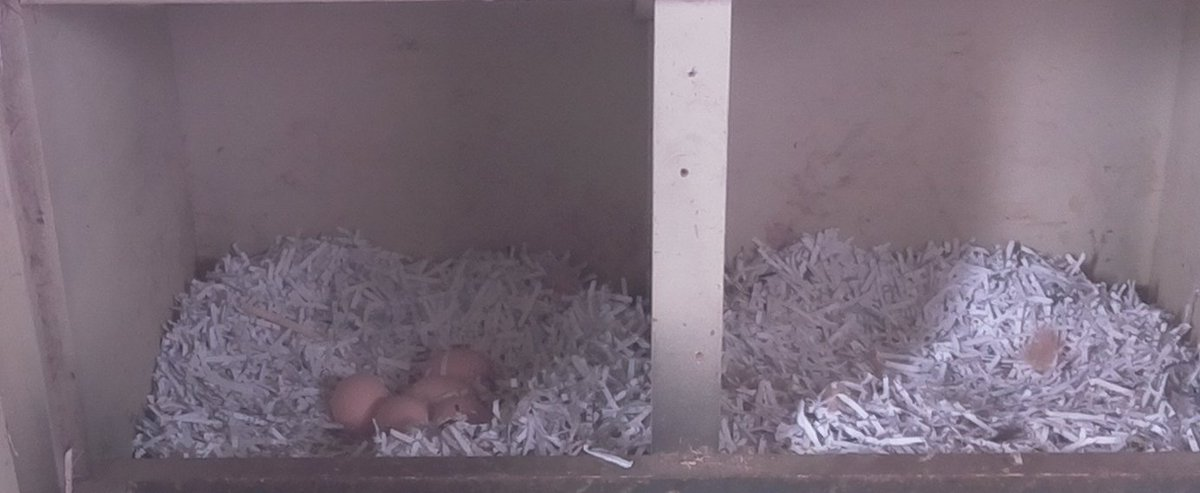egg: (323, 369, 389, 427), (417, 339, 497, 386), (368, 390, 431, 439), (423, 394, 495, 430), (407, 371, 480, 403)
